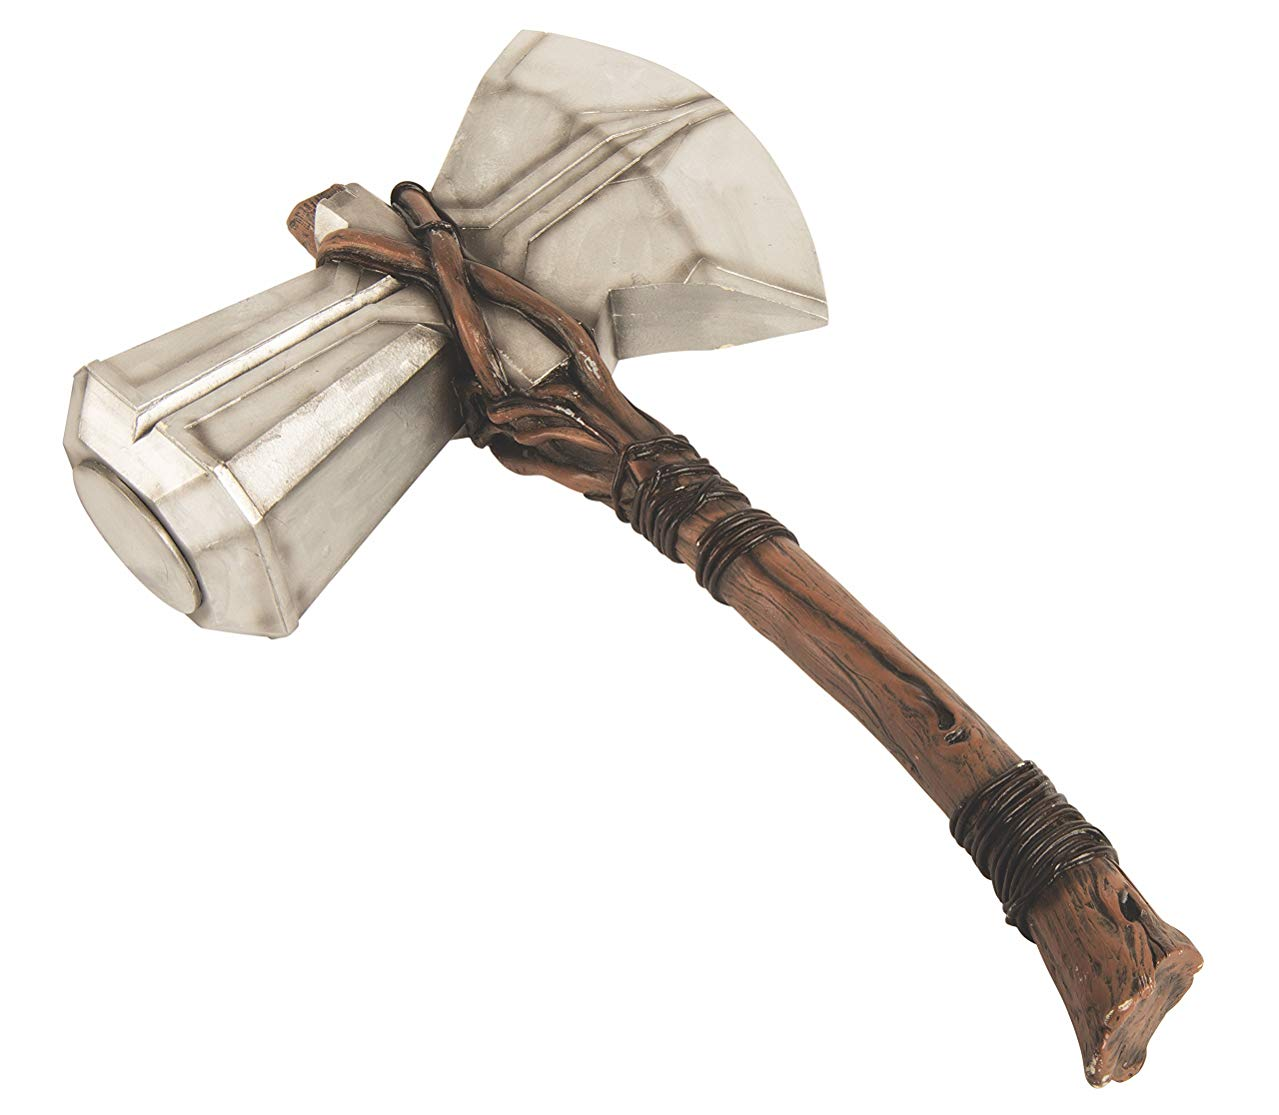THOR Hammer: (60, 34, 1225, 1055)
